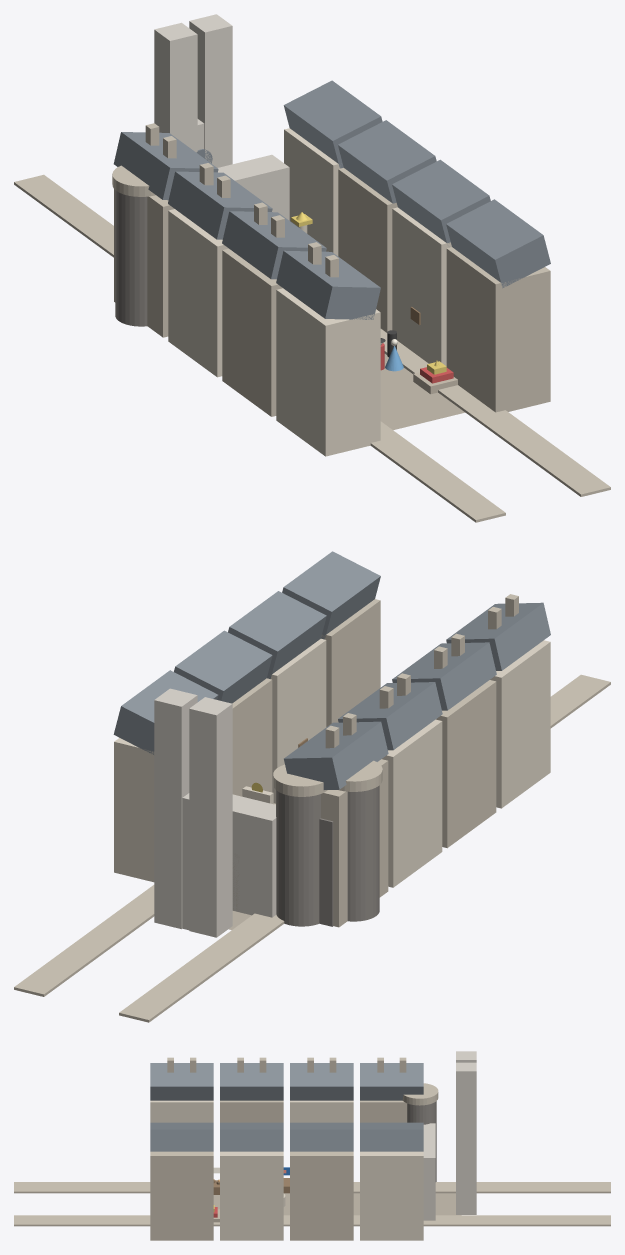
File: french-revolution-paris.glb
3 renders of one model, top to bottom at view 1: azimuth 30°, elevation 25°; view 2: azimuth 150°, elevation 25°; view 3: azimuth 270°, elevation 25°, orthographic. The views are drawn at different scales.
Parts seen in each view (by area): view 1: ParisBuilding_Left_1, ParisBuilding_Right_1, ParisBuilding_Left_3, ParisBuilding_Left_2, ParisBuilding_Right_2, Sidewalk_Left, ParisBuilding_Right_3, MansardRoof_Right_1, NotreDameTower_South, Sidewalk_Right, NotreDameTower_North, MansardRoof_Left_1 (+12 smaller); view 2: NotreDameTower_North, NotreDameTower_South, ParisBuilding_Left_2, ParisBuilding_Left_1, ParisBuilding_Left_3, Sidewalk_Left, Bastille_EastTower, ParisBuilding_Right_4, ParisBuilding_Right_2, ParisTriumphalArch, ParisBuilding_Right_1, MansardRoof_Right_1 (+15 smaller); view 3: ParisBuilding_Right_1, ParisBuilding_Right_2, ParisBuilding_Right_3, ParisBuilding_Right_4, Sidewalk_Right, Sidewalk_Left, NotreDameTower_South, MansardRoof_Left_1, MansardRoof_Left_2, MansardRoof_Left_3, MansardRoof_Left_4, MansardRoof_Right_1 (+11 smaller).
Part boxes in pixels (bbox=[...]): ParisBuilding_Left_1: bbox=[276, 288, 380, 456]; ParisBuilding_Right_1: bbox=[446, 247, 550, 412]; ParisBuilding_Left_3: bbox=[168, 209, 228, 377]; ParisBuilding_Left_2: bbox=[222, 248, 282, 416]; ParisBuilding_Right_2: bbox=[392, 207, 451, 365]; Sidewalk_Left: bbox=[14, 174, 505, 522]; ParisBuilding_Right_3: bbox=[338, 168, 397, 332]; MansardRoof_Right_1: bbox=[446, 199, 550, 288]; NotreDameTower_South: bbox=[189, 14, 232, 167]; Sidewalk_Right: bbox=[380, 329, 610, 496]; NotreDameTower_North: bbox=[154, 22, 197, 152]; MansardRoof_Left_1: bbox=[276, 250, 380, 319]; NotreDameTower_North: bbox=[189, 697, 232, 937]; NotreDameTower_South: bbox=[154, 688, 197, 929]; ParisBuilding_Left_2: bbox=[436, 680, 496, 848]; ParisBuilding_Left_1: bbox=[490, 640, 550, 808]; ParisBuilding_Left_3: bbox=[382, 719, 442, 887]; Sidewalk_Left: bbox=[119, 674, 610, 1022]; Bastille_EastTower: bbox=[276, 790, 320, 926]; ParisBuilding_Right_4: bbox=[114, 738, 154, 882]; ParisBuilding_Right_2: bbox=[270, 638, 326, 803]; ParisTriumphalArch: bbox=[232, 794, 276, 917]; ParisBuilding_Right_1: bbox=[321, 599, 380, 726]; MansardRoof_Right_1: bbox=[282, 551, 380, 639]; ParisBuilding_Right_1: bbox=[150, 1151, 213, 1240]; ParisBuilding_Right_2: bbox=[220, 1151, 283, 1240]; ParisBuilding_Right_3: bbox=[290, 1151, 353, 1240]; ParisBuilding_Right_4: bbox=[360, 1151, 423, 1240]; Sidewalk_Right: bbox=[14, 1215, 610, 1226]; Sidewalk_Left: bbox=[14, 1182, 610, 1193]; NotreDameTower_South: bbox=[456, 1062, 476, 1214]; MansardRoof_Left_1: bbox=[150, 1063, 213, 1100]; MansardRoof_Left_2: bbox=[220, 1063, 283, 1100]; MansardRoof_Left_3: bbox=[290, 1063, 353, 1100]; MansardRoof_Left_4: bbox=[360, 1063, 423, 1100]; MansardRoof_Right_1: bbox=[150, 1122, 213, 1151].
Bounding box in the file's own units: 19.53 × 17 × 64.
